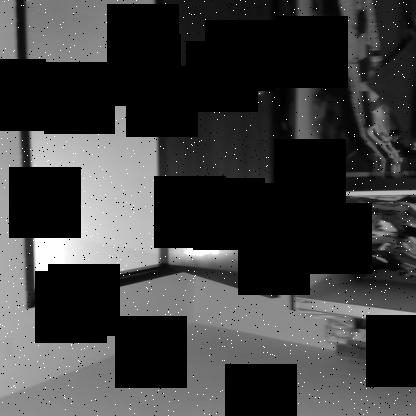Porte: (13, 1, 283, 311)
